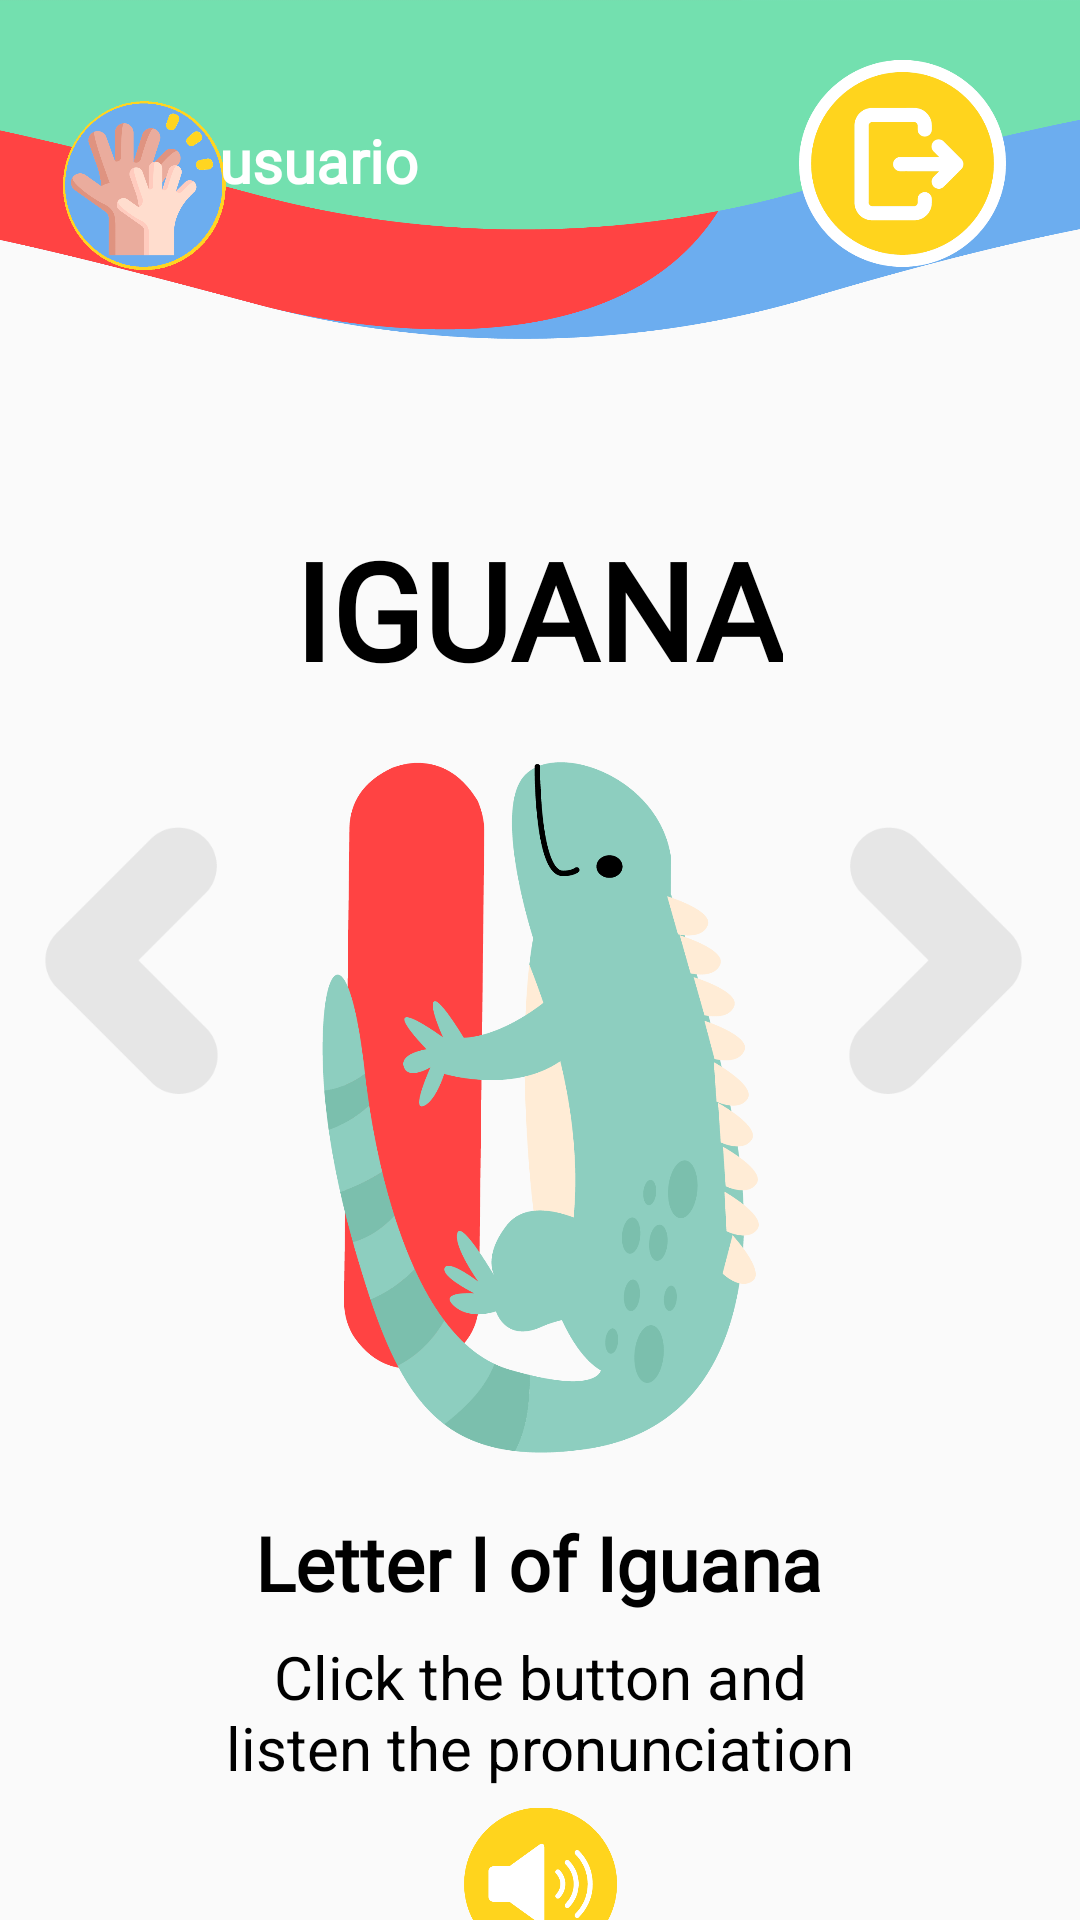

Screen size 1080 × 1920. Icon name, then its center in pixels as point (x, y):
salir: point (902, 163)
